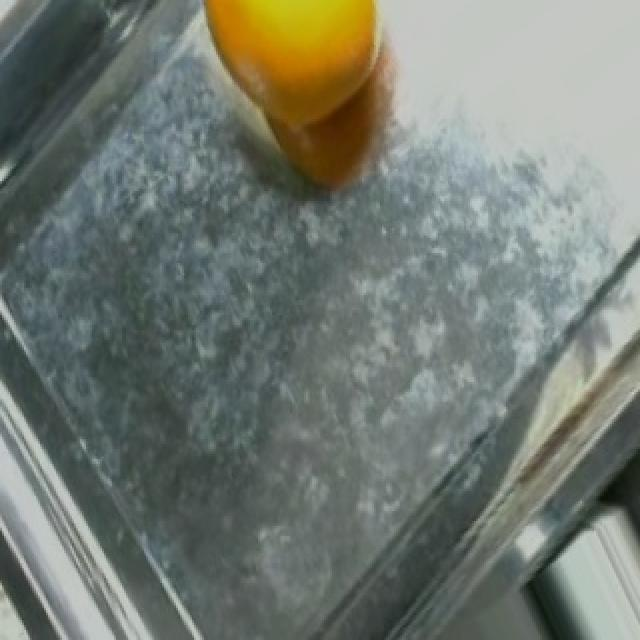Fruit: (178, 0, 424, 216)
